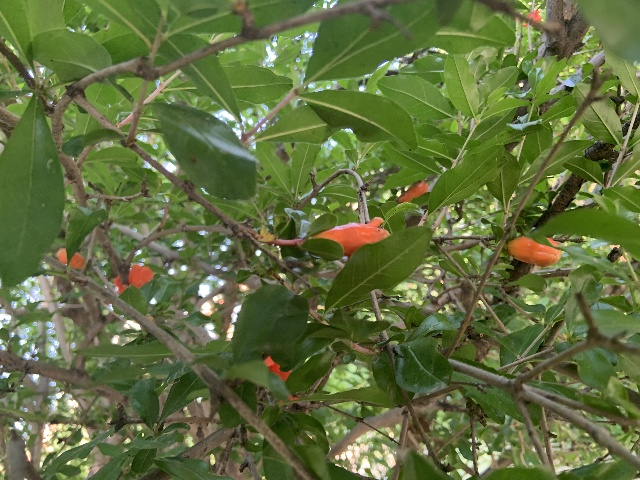bud: (507, 236, 562, 267), (397, 180, 429, 203), (56, 248, 86, 269)
flower: (307, 216, 390, 256), (263, 354, 300, 400), (113, 263, 153, 294)
